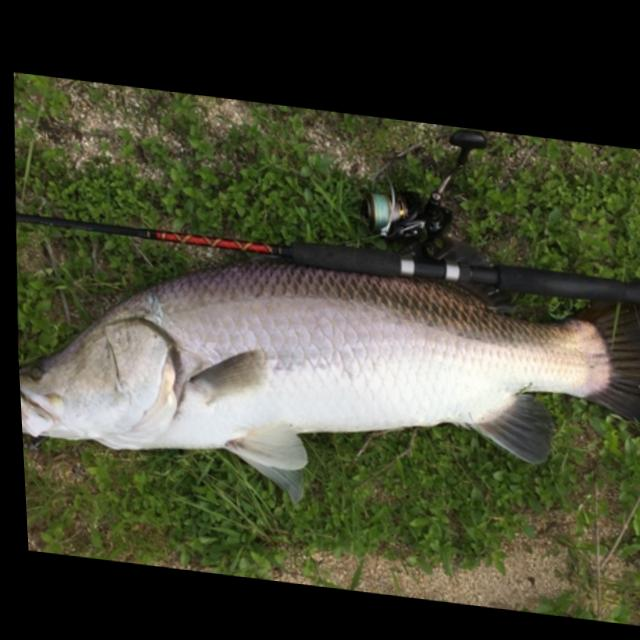Seabass: (9, 179, 640, 537)
